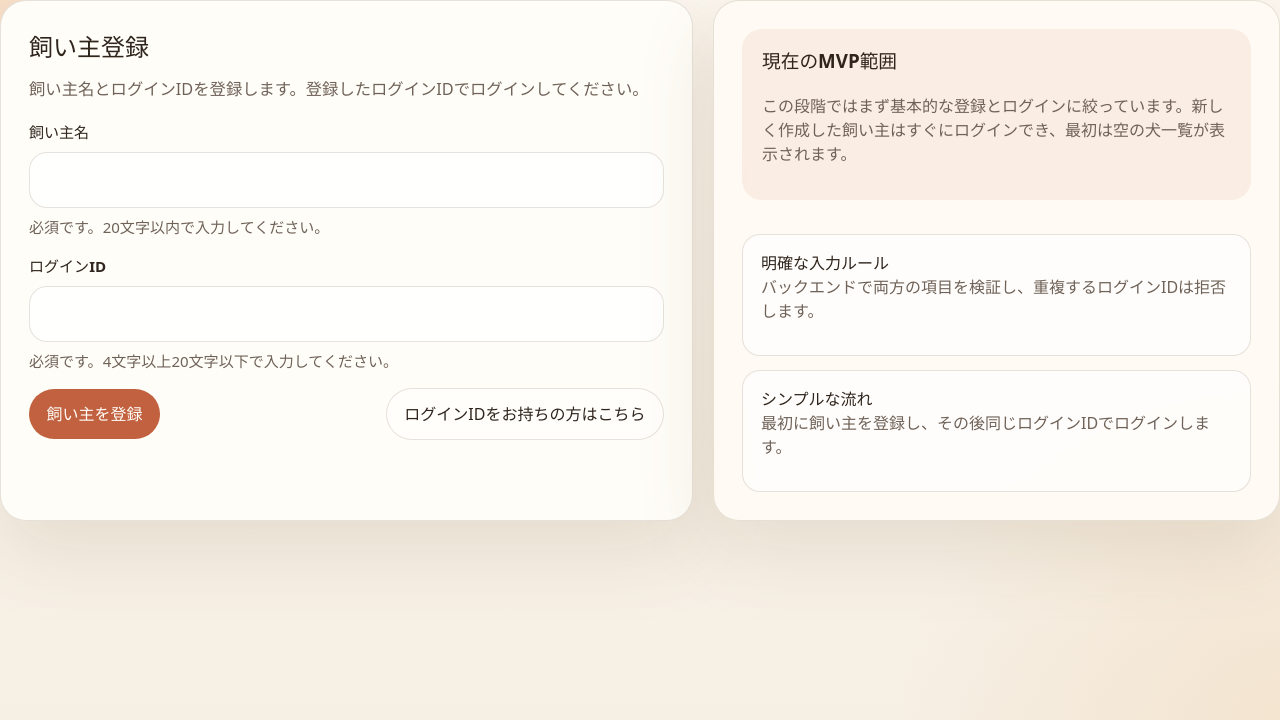
OwnerRegistrationView › 飼い主登録フォームで入力エラーがある場合はAPIを呼ばない
The image size is (1280, 720).
Click the button "飼い主を登録". click: (95, 414)
box: [29,390,160,439]
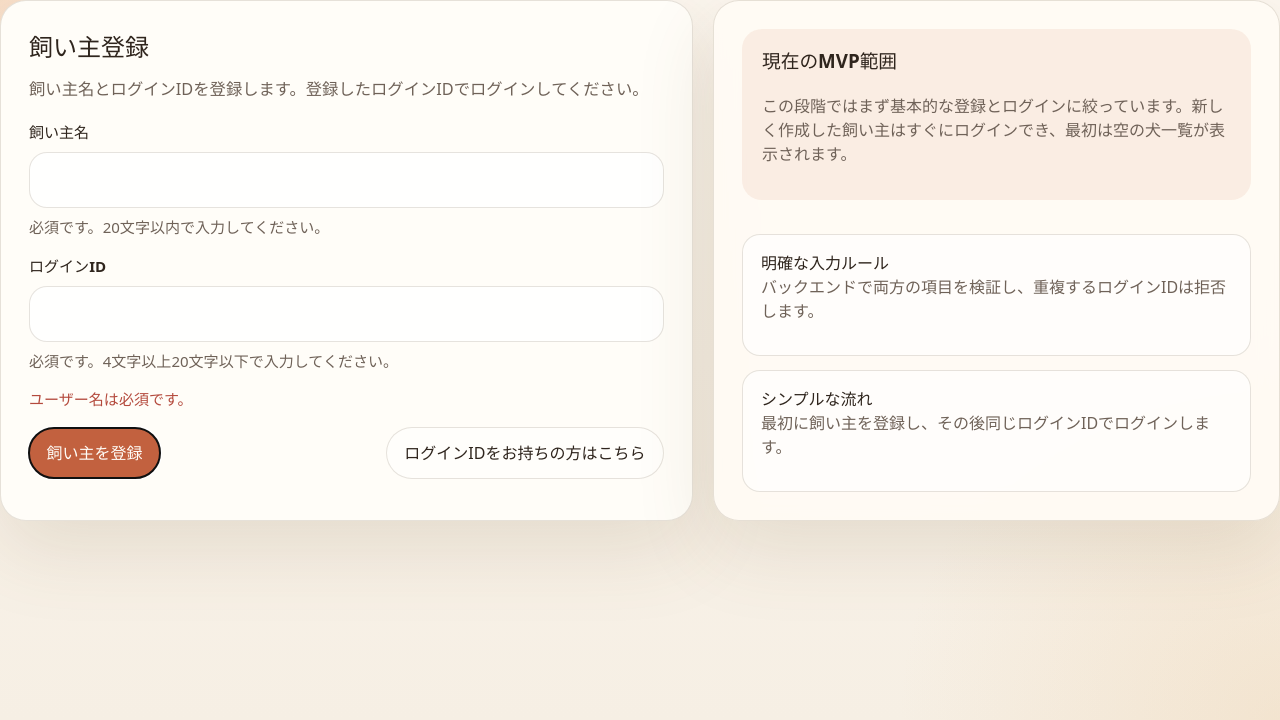
Check: the text "ユーザー名は必須です。" is shown, box [29,390,192,410]
